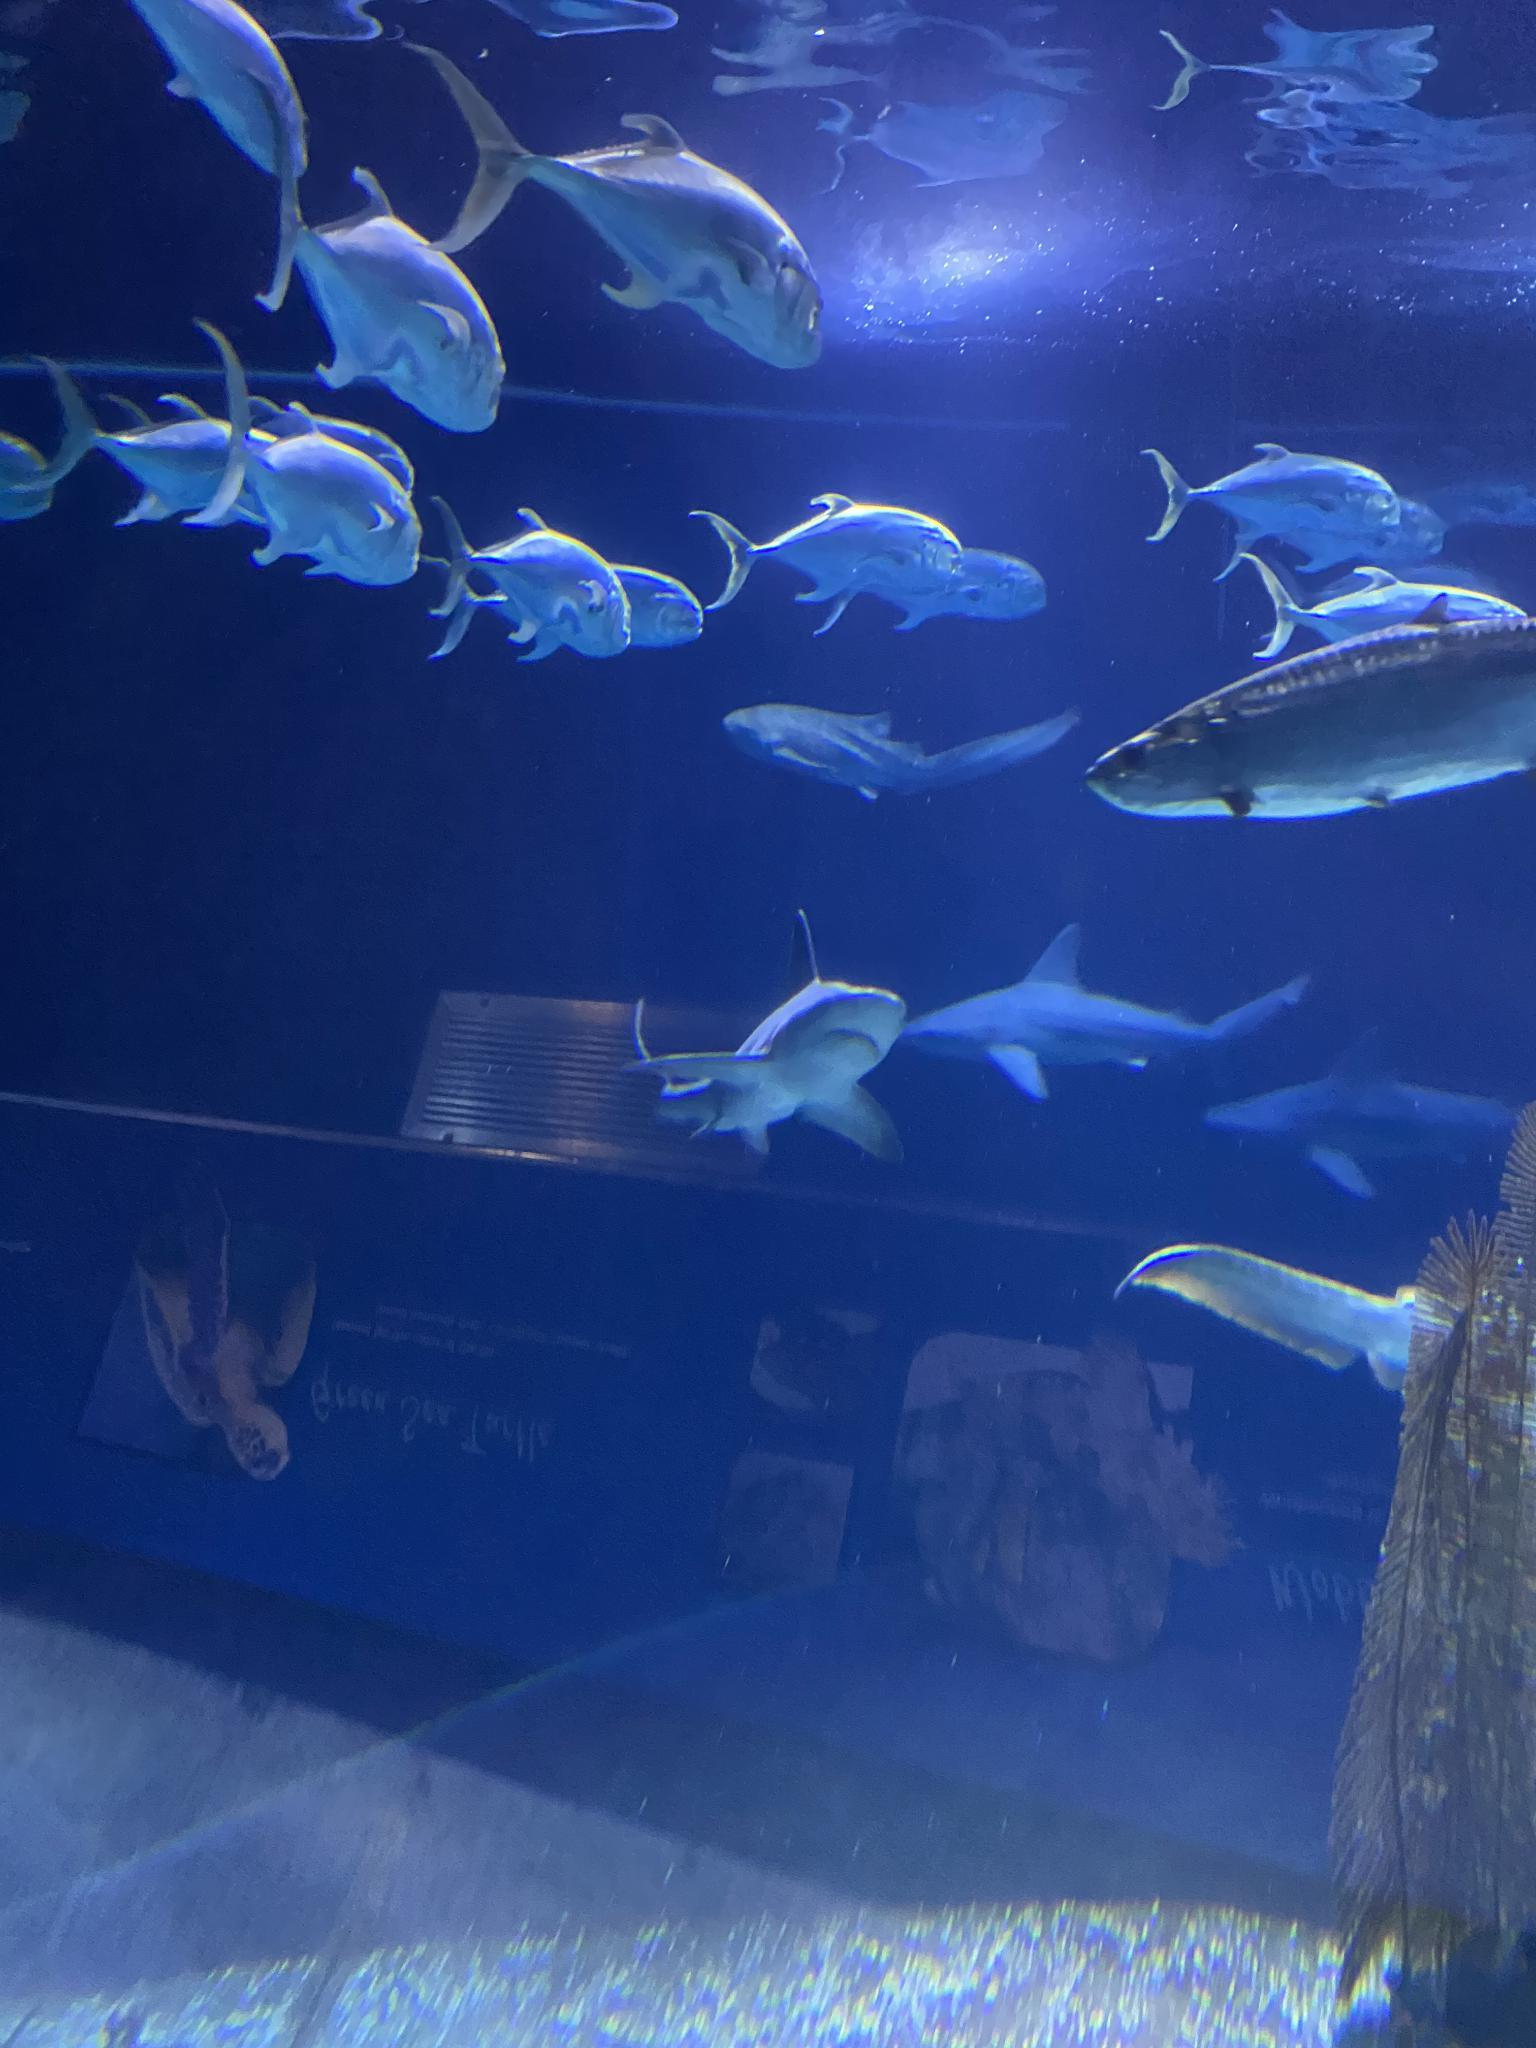fish: (436, 82, 837, 361), (1054, 606, 1534, 819), (269, 181, 526, 452), (182, 342, 431, 592), (103, 0, 336, 189), (736, 693, 1083, 814), (53, 361, 269, 522), (428, 503, 644, 658), (1126, 435, 1404, 548), (184, 390, 419, 516), (1208, 579, 1536, 668), (699, 497, 965, 605), (416, 569, 731, 655), (799, 540, 1055, 643), (1226, 489, 1455, 564), (0, 424, 61, 542)
shark: (910, 953, 1289, 1100), (615, 980, 899, 1161), (1208, 1047, 1533, 1192)
